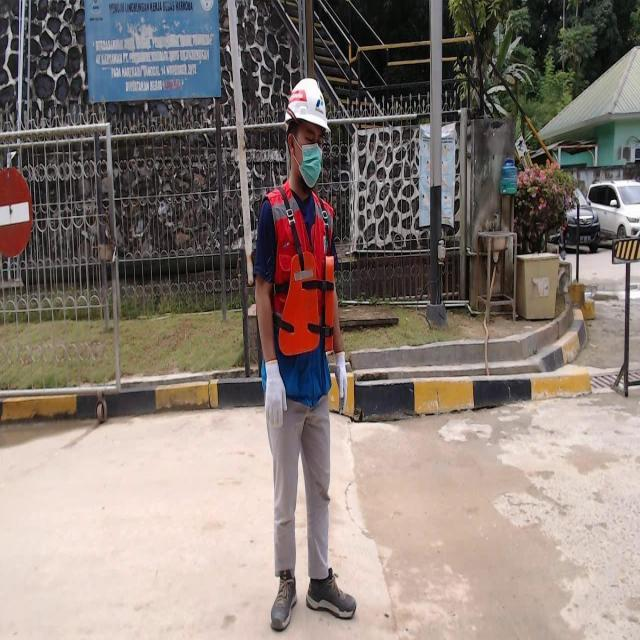Vest: (278, 250, 334, 354)
